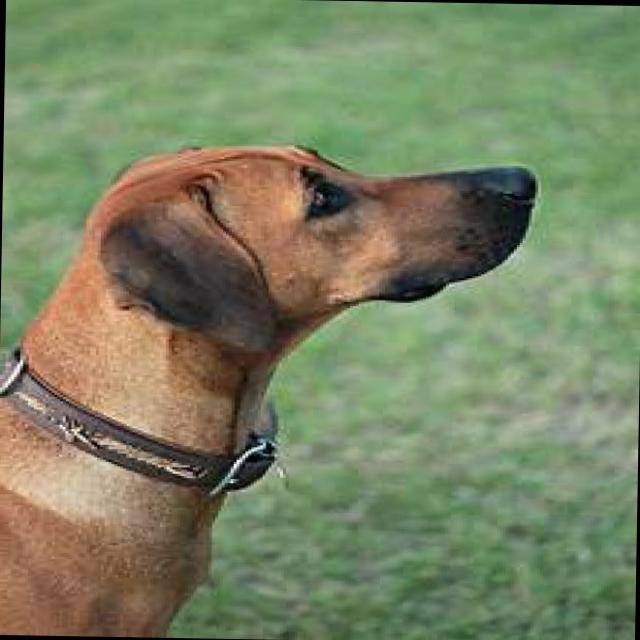animal: (0, 135, 541, 640)
